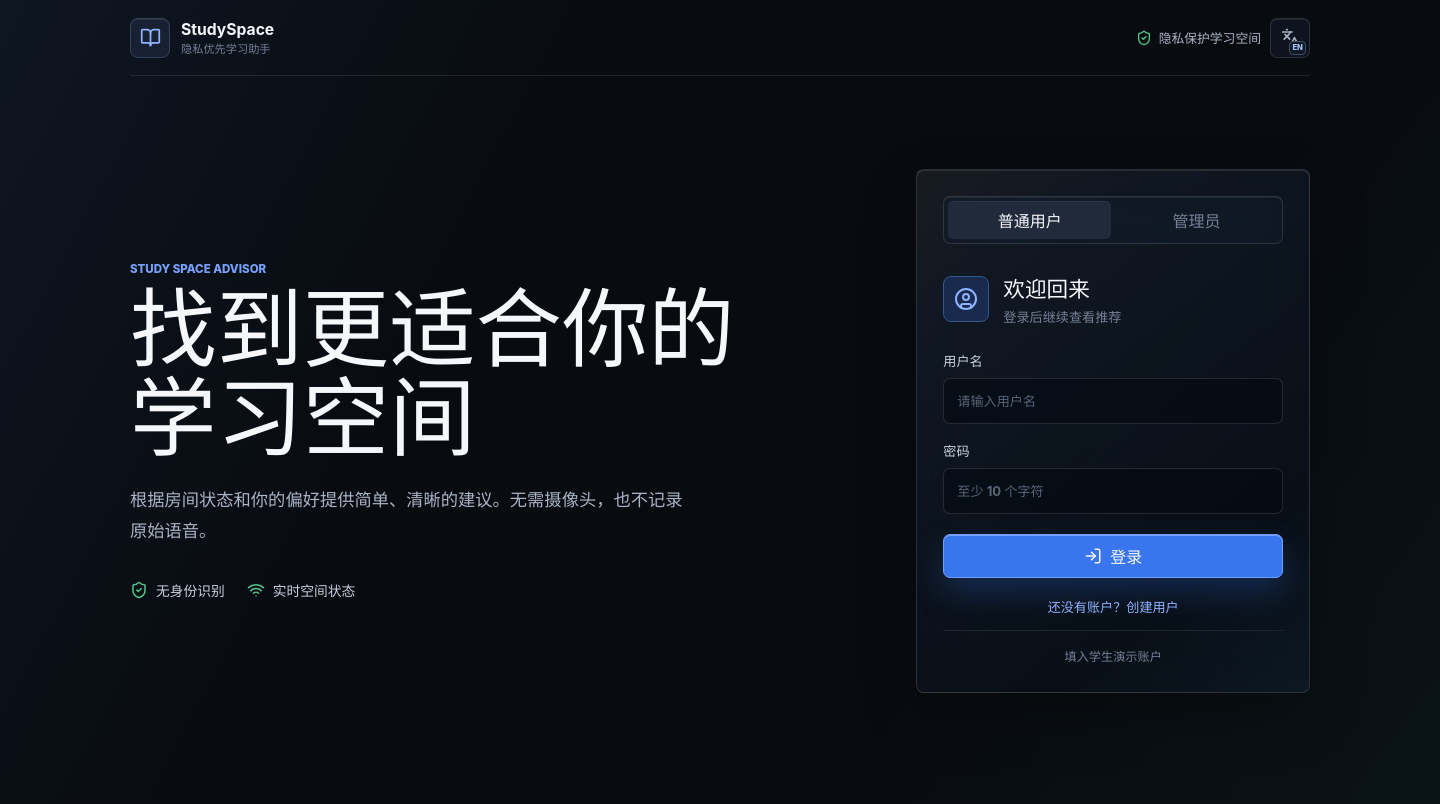
Test: App › requires login and renders a simple personalized student home
The image size is (1440, 804).
expect the heading "找到更适合你的学习空间" is shown: met, box [130,284,750,462]
What coordinates should you click on to do the following:
click the button "填入学生演示账户"
I would click on:
 (1113, 648)
Its box is [943,630,1283,666].
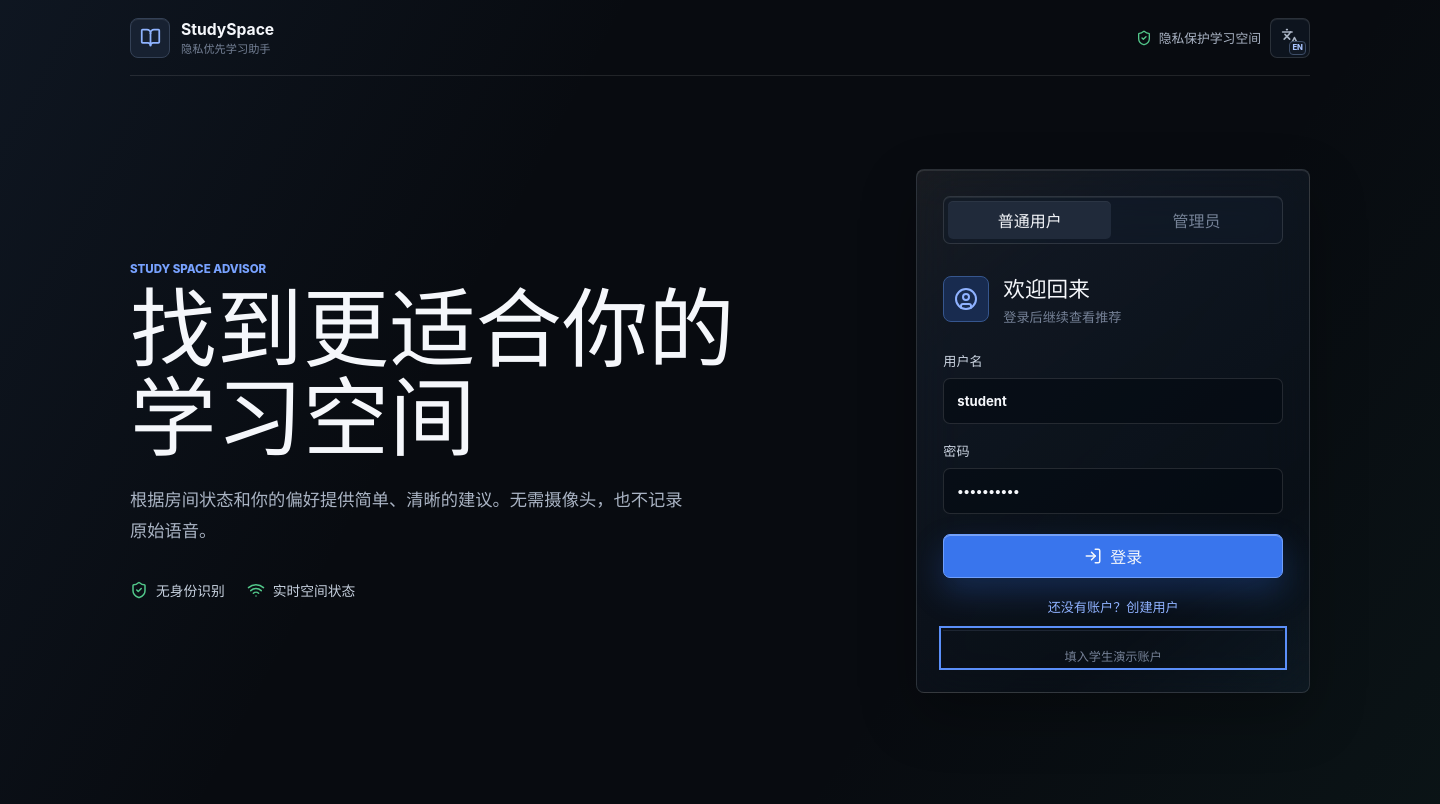
What coordinates should you click on to do the following:
click the button "登录"
I would click on:
 (1113, 556)
Its box is [943,534,1283,578].
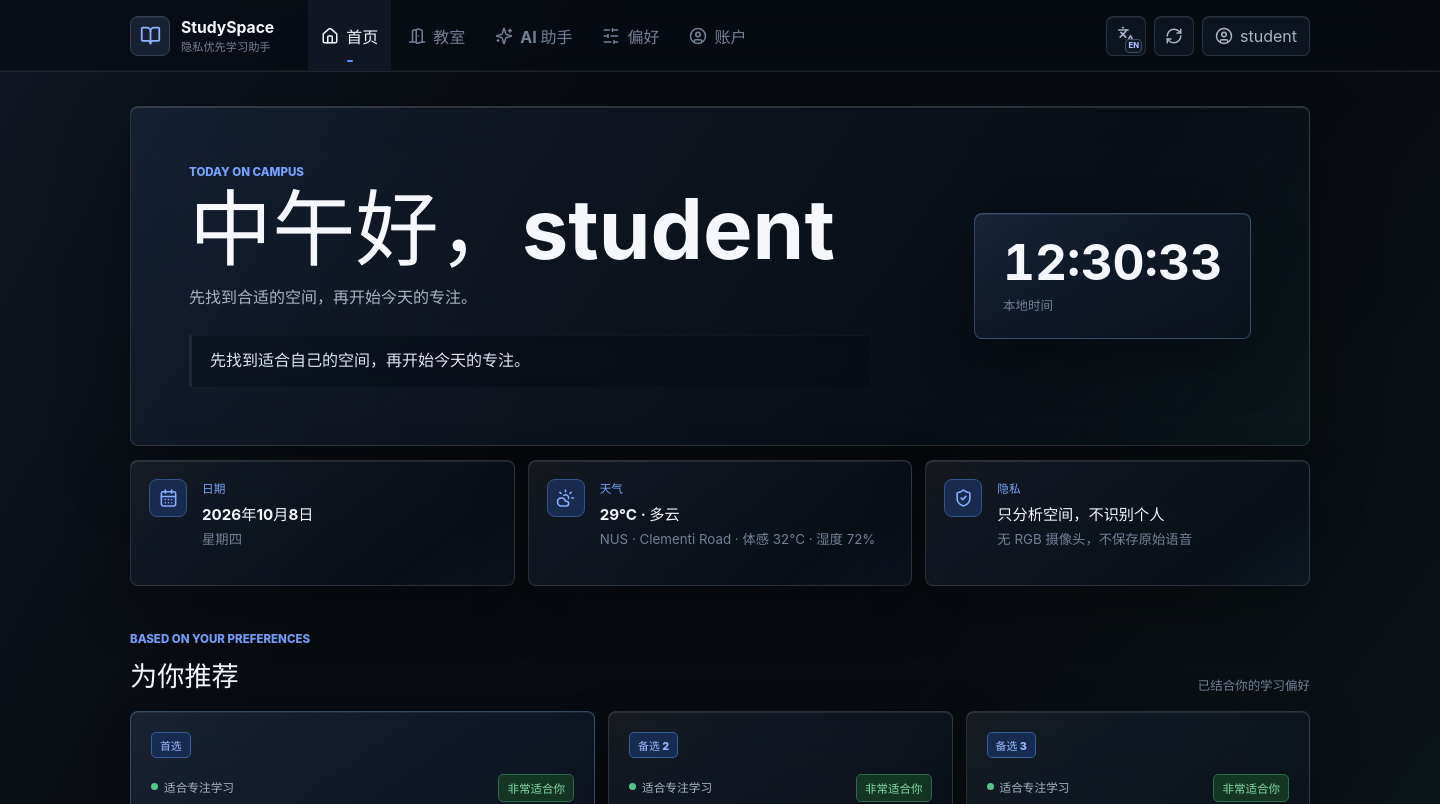
expect the heading "为你推荐" is shown: met, box [130,660,239,693]
expect the 1st text "非常适合你" is shown: met, box [498,774,574,802]
expect the text "只分析空间，不识别个人" is shown: met, box [997,502,1192,524]
